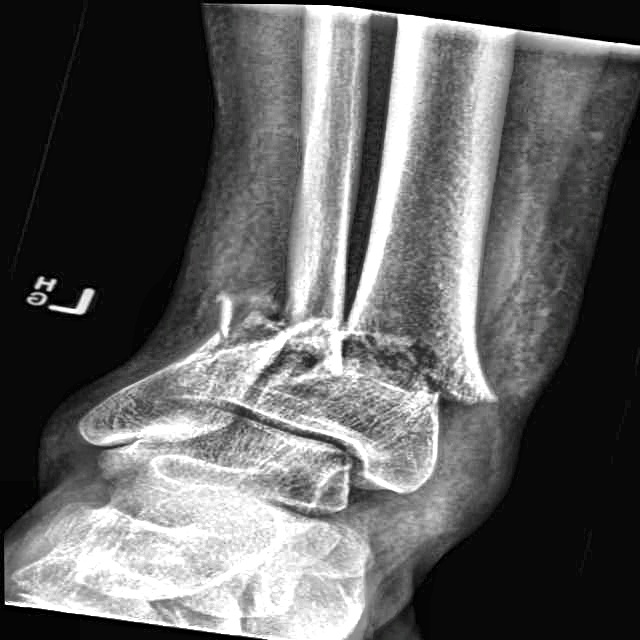Comminuted: (318, 302, 530, 423), (187, 267, 330, 364)
